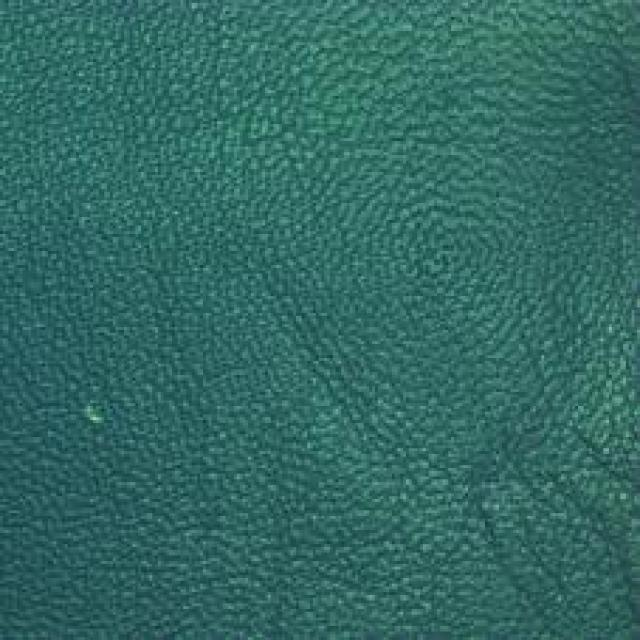Growth Marks: (464, 357, 628, 617)
